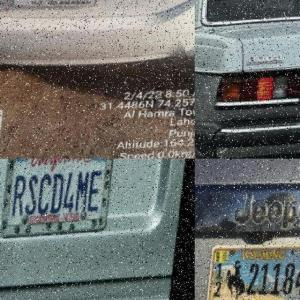Plate: (0, 158, 119, 244), (208, 247, 300, 300), (3, 0, 111, 24)
